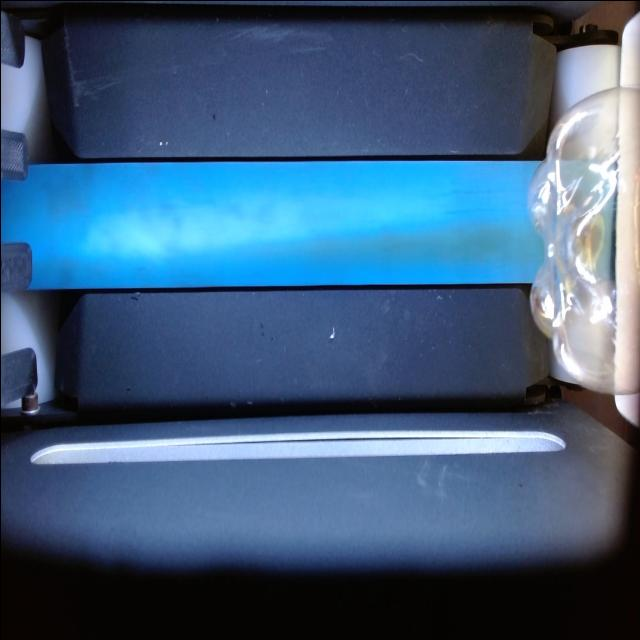bottom: (520, 81, 621, 409)
